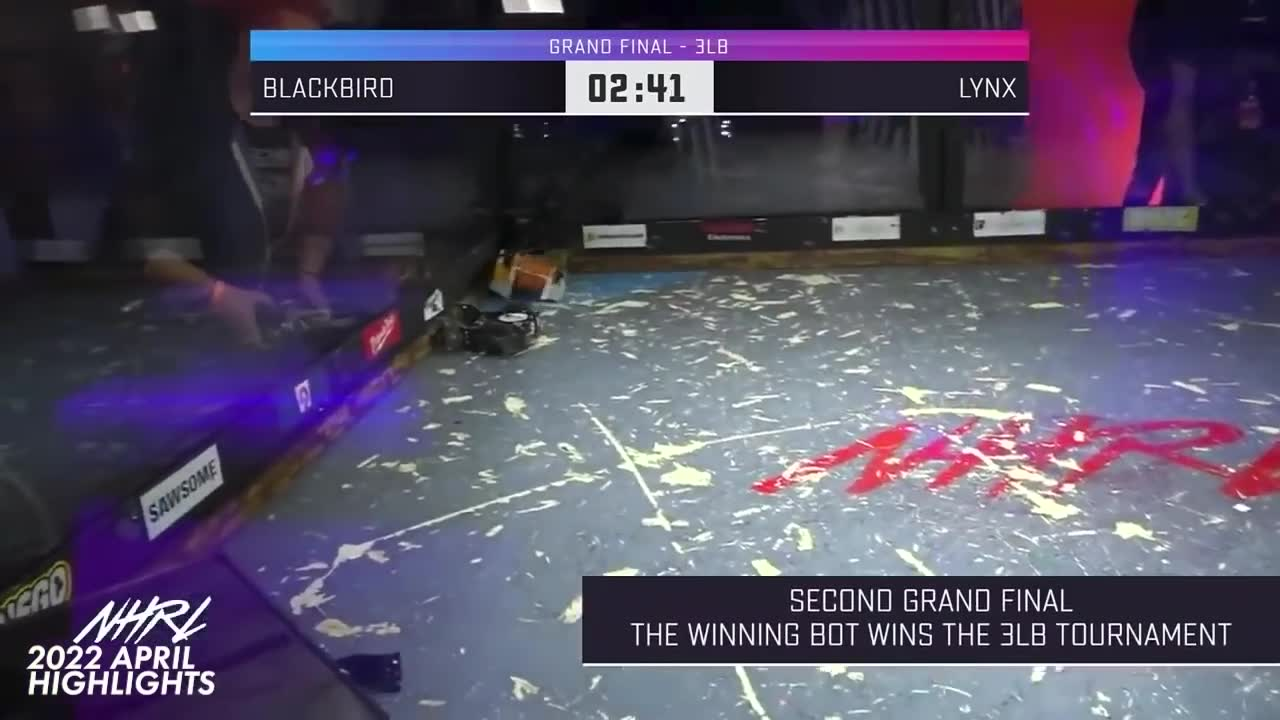combatbot: (431, 305, 544, 358), (490, 249, 571, 302)
